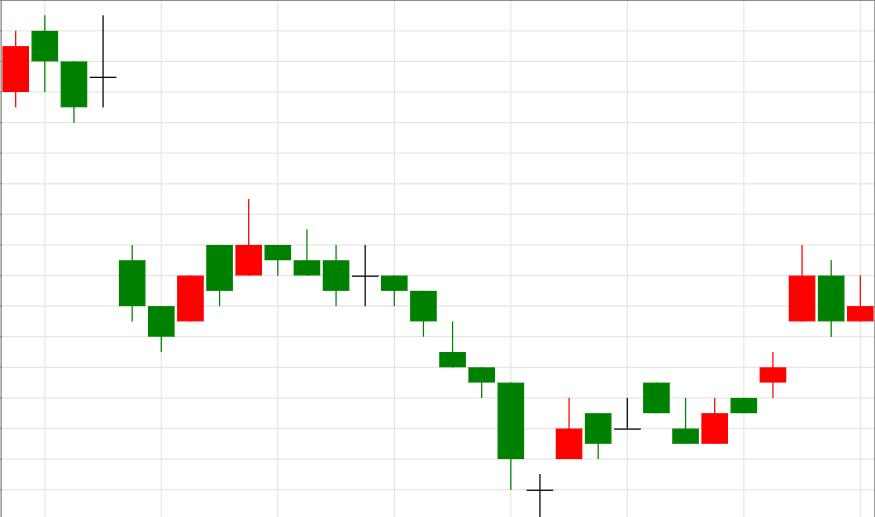morning_star_rise: (265, 228, 583, 517)
